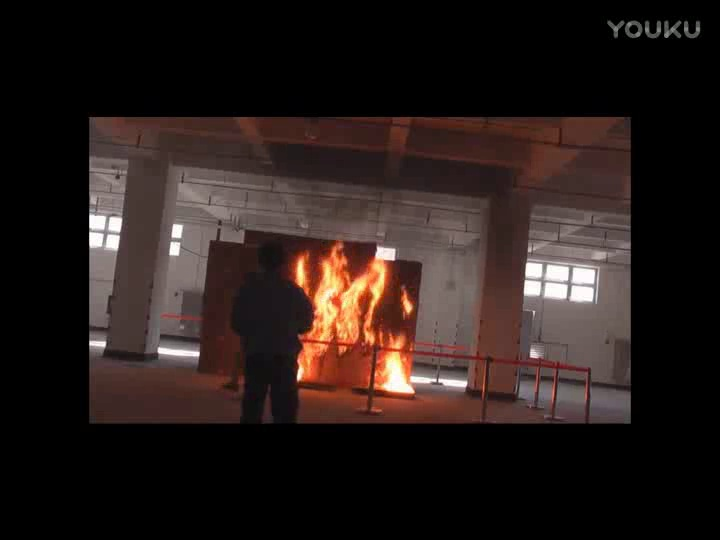fire: (296, 249, 423, 390)
